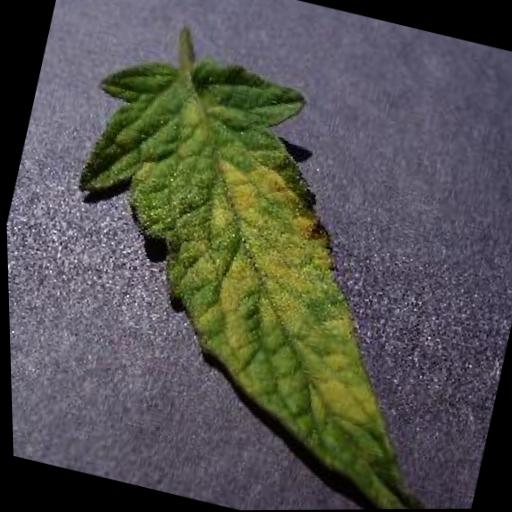Leaf Mold: (10, 32, 512, 512)
